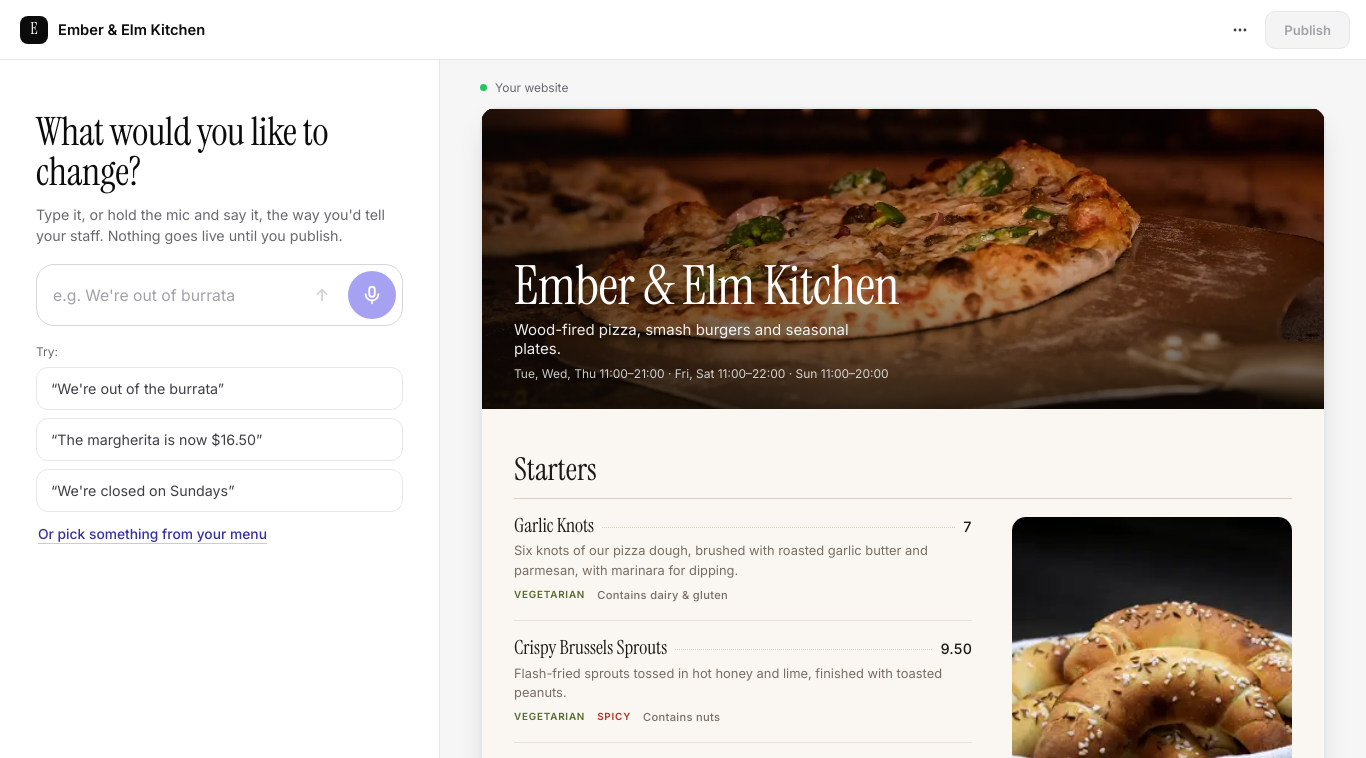
Test case: <Editor /> credits › shows 'N credits left' in the top bar instead of a dollar cost
Click the button named "More" at (1240, 30), box [1221,10,1259,48]
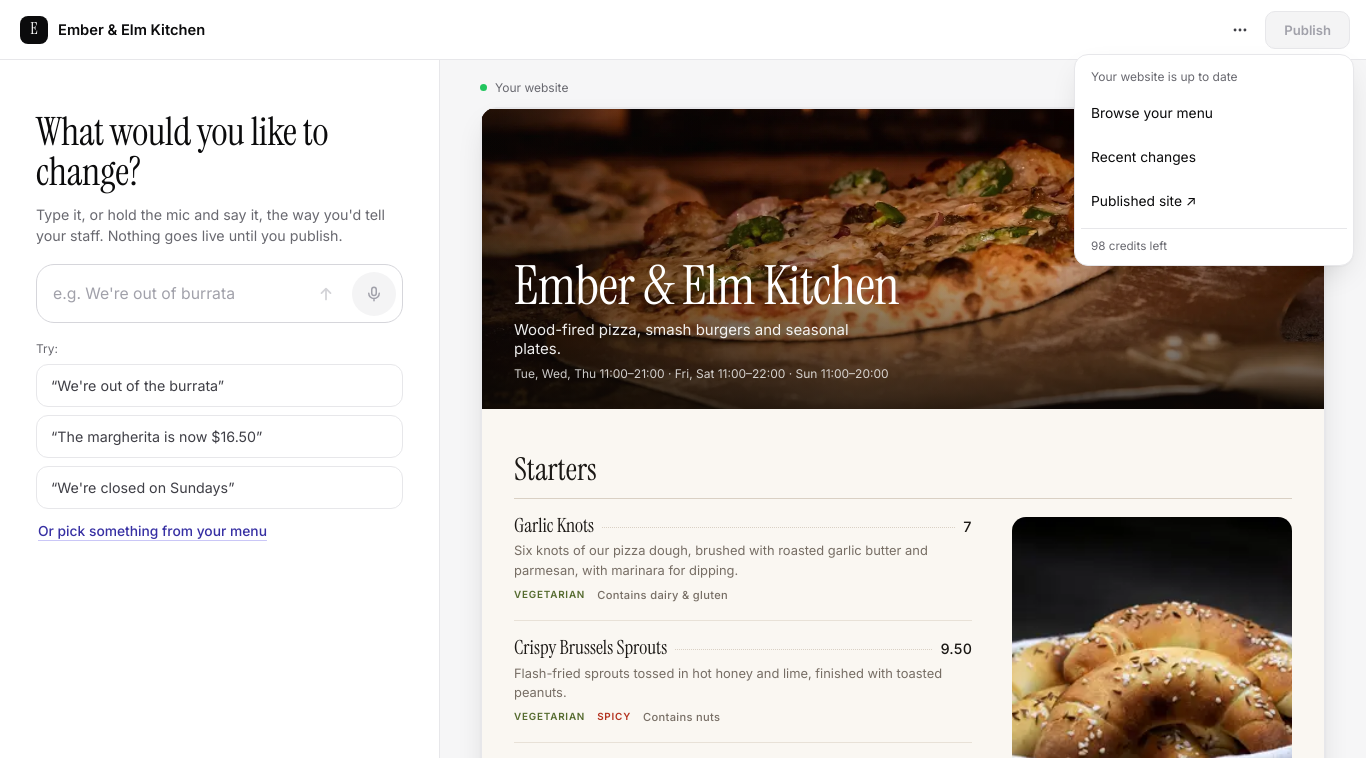
Expected: the element "Edit mode" does not show "$"
Now the text with test id "credits" reads "98 credits left", box [1091,239,1167,253]
